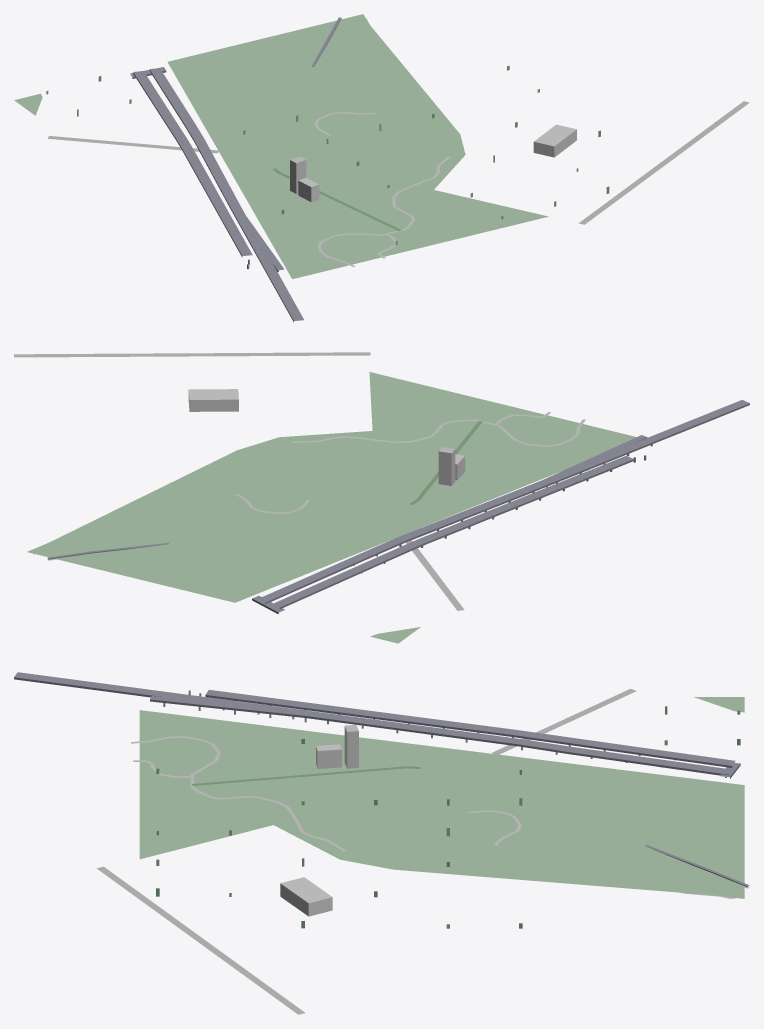
3 renders of one model, top to bottom at view 1: azimuth 30°, elevation 25°; view 2: azimuth 150°, elevation 25°; view 3: azimuth 270°, elevation 25°, orthographic. The views are drawn at different scales.
Bounding box in the file's own units: 652 × 36.62 × 608.
